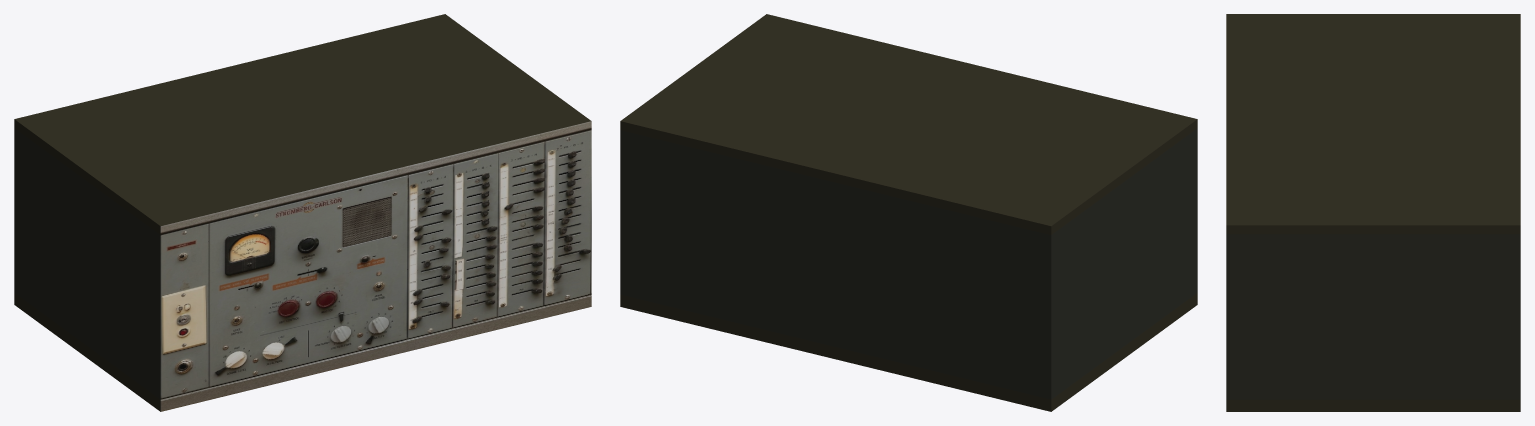
File: Intercomunicador.fbx
3 renders of one model, left to right at view 1: azimuth 30°, elevation 25°; view 2: azimuth 150°, elevation 25°; view 3: azimuth 270°, elevation 25°, orthographic.
Visible parts, largest first — view 1: Intercomunicador; view 2: Intercomunicador; view 3: Intercomunicador.
Part boxes in pixels (bbox=[...]): Intercomunicador: bbox=[14, 14, 591, 411]; Intercomunicador: bbox=[620, 14, 1197, 411]; Intercomunicador: bbox=[1226, 14, 1520, 411].
Bounding box in the file's own units: 34 × 14 × 20.
